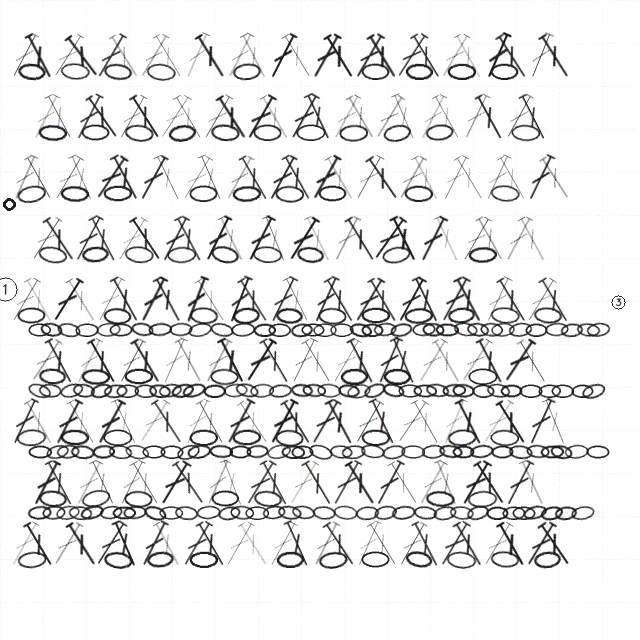chain: (209, 243, 241, 266), (80, 487, 112, 510), (16, 183, 47, 205), (37, 244, 68, 266), (381, 244, 412, 266), (382, 122, 412, 144), (404, 549, 434, 570), (446, 550, 477, 570), (103, 62, 133, 82), (146, 62, 176, 82), (124, 123, 154, 143), (167, 123, 197, 143), (253, 489, 283, 509), (17, 550, 47, 570), (103, 550, 133, 570), (318, 550, 348, 570), (252, 245, 283, 264), (16, 428, 47, 447), (296, 245, 325, 265), (60, 62, 90, 81), (232, 62, 262, 81), (210, 123, 240, 142), (490, 184, 520, 203), (124, 245, 154, 264), (189, 306, 219, 325), (490, 306, 520, 325), (533, 306, 563, 325), (447, 428, 477, 447), (38, 489, 68, 508), (490, 550, 520, 569), (467, 490, 498, 508), (17, 62, 46, 81), (425, 123, 454, 142), (81, 245, 110, 264), (232, 306, 261, 325), (447, 306, 476, 325), (38, 367, 67, 386), (146, 550, 175, 569), (533, 550, 562, 569), (362, 380, 388, 401), (26, 381, 53, 401), (580, 381, 607, 401), (175, 442, 202, 462), (307, 442, 334, 462), (425, 490, 455, 508), (38, 124, 67, 142), (339, 124, 368, 142), (511, 124, 540, 142), (60, 185, 89, 203), (232, 185, 261, 203), (275, 185, 304, 203), (167, 246, 196, 264), (468, 246, 497, 264), (103, 307, 132, 325), (275, 307, 304, 325), (318, 307, 347, 325), (404, 307, 433, 325), (81, 368, 110, 386), (210, 368, 239, 386), (275, 429, 304, 447), (490, 429, 519, 447), (124, 490, 153, 508), (142, 503, 168, 523), (296, 124, 326, 141), (468, 368, 498, 385), (59, 381, 85, 400), (181, 381, 207, 400), (234, 381, 260, 400), (266, 442, 292, 461), (79, 503, 105, 522), (465, 503, 491, 522), (522, 503, 548, 522), (361, 63, 390, 80), (447, 63, 476, 80), (490, 63, 519, 80), (81, 124, 110, 141), (253, 124, 282, 141), (103, 185, 132, 202), (189, 185, 218, 202), (318, 185, 347, 202), (404, 185, 433, 202), (17, 307, 46, 324), (361, 307, 390, 324), (124, 368, 153, 385), (60, 429, 89, 446), (103, 429, 132, 446), (189, 429, 218, 446), (232, 429, 261, 446), (361, 429, 390, 446), (189, 551, 218, 568), (361, 551, 390, 568), (405, 63, 433, 80), (340, 368, 368, 385), (383, 368, 411, 385), (211, 490, 239, 507), (276, 551, 304, 568), (89, 381, 114, 400), (170, 381, 195, 400), (381, 381, 406, 400), (56, 321, 82, 339), (187, 321, 213, 339), (209, 321, 235, 339), (346, 382, 372, 400), (124, 443, 150, 461), (381, 443, 407, 461), (432, 504, 458, 522), (570, 504, 596, 522), (348, 321, 373, 339), (389, 321, 414, 339), (45, 443, 70, 461), (549, 443, 574, 461), (217, 504, 242, 522), (539, 504, 564, 522), (186, 443, 212, 460), (55, 504, 81, 521), (39, 321, 64, 338), (130, 321, 155, 338), (453, 321, 478, 338), (508, 321, 533, 338), (586, 321, 611, 338), (158, 382, 183, 399), (425, 382, 450, 399), (486, 382, 511, 399), (360, 443, 385, 460), (438, 443, 463, 460), (469, 443, 494, 460), (277, 504, 302, 521), (291, 504, 316, 521), (333, 504, 358, 521), (373, 504, 398, 521), (391, 504, 416, 521), (466, 321, 490, 338), (72, 382, 96, 399), (99, 504, 123, 521), (262, 504, 286, 521), (576, 322, 601, 338), (103, 383, 128, 399), (268, 383, 293, 399), (70, 444, 95, 460), (108, 444, 133, 460), (341, 444, 366, 460), (508, 444, 533, 460), (68, 505, 93, 521), (174, 505, 199, 521), (355, 505, 380, 521), (413, 505, 438, 521), (449, 505, 474, 521), (290, 322, 314, 338), (560, 322, 584, 338), (148, 383, 172, 399), (337, 383, 361, 399), (329, 444, 353, 460), (312, 505, 336, 521), (554, 505, 578, 521), (96, 322, 121, 337), (223, 383, 248, 398), (421, 444, 446, 459), (564, 444, 589, 459), (27, 505, 52, 520), (196, 505, 221, 520), (148, 322, 172, 337), (169, 322, 193, 337), (231, 322, 255, 337), (373, 322, 397, 337), (412, 322, 436, 337), (491, 322, 515, 337), (545, 322, 569, 337), (38, 383, 62, 398), (250, 383, 274, 398), (290, 383, 314, 398), (302, 383, 326, 398), (317, 383, 341, 398), (442, 383, 466, 398), (56, 444, 80, 459), (209, 444, 233, 459), (526, 444, 550, 459), (42, 505, 66, 520), (123, 505, 147, 520), (230, 505, 254, 520), (422, 322, 445, 337), (480, 322, 503, 337), (452, 383, 475, 398), (92, 444, 115, 459), (246, 444, 269, 459), (75, 323, 99, 337), (109, 323, 133, 337), (301, 323, 325, 337), (313, 323, 337, 337), (330, 323, 354, 337), (435, 323, 459, 337), (398, 384, 422, 398), (413, 384, 437, 398), (519, 384, 543, 398), (28, 445, 52, 459), (142, 445, 166, 459), (160, 445, 184, 459), (281, 445, 305, 459), (401, 445, 425, 459), (540, 445, 564, 459), (586, 445, 610, 459), (112, 506, 136, 520), (159, 506, 183, 520), (245, 506, 269, 520), (502, 506, 526, 520), (512, 506, 536, 520), (28, 323, 51, 337), (253, 323, 276, 337), (268, 323, 291, 337), (361, 323, 384, 337), (525, 323, 548, 337), (116, 384, 139, 398), (134, 384, 157, 398), (203, 384, 226, 398), (472, 384, 495, 398), (500, 384, 523, 398), (538, 384, 561, 398), (551, 384, 574, 398), (571, 384, 594, 398), (229, 445, 252, 459), (291, 445, 314, 459), (452, 445, 475, 459), (491, 445, 514, 459), (486, 506, 509, 520)
double: (362, 153, 403, 203), (39, 214, 80, 264), (233, 397, 274, 447), (319, 519, 360, 569), (534, 519, 575, 569), (61, 32, 103, 80), (82, 92, 123, 141), (369, 214, 410, 263), (492, 31, 532, 81), (155, 92, 195, 142), (212, 92, 252, 142), (177, 153, 217, 203), (535, 153, 575, 203), (191, 275, 231, 325), (91, 153, 131, 202), (26, 214, 66, 263), (126, 214, 166, 263), (26, 336, 66, 385), (456, 336, 496, 385), (499, 336, 539, 385), (134, 397, 174, 446), (392, 397, 432, 446), (478, 397, 518, 446), (169, 458, 209, 507), (470, 458, 510, 507), (105, 31, 144, 81), (191, 31, 230, 81), (320, 31, 359, 81), (363, 31, 402, 81), (535, 31, 574, 81), (169, 92, 208, 142), (198, 92, 237, 142), (241, 92, 280, 142), (370, 92, 409, 142), (112, 214, 151, 264), (284, 214, 323, 264), (341, 214, 380, 264), (48, 275, 87, 325), (62, 275, 101, 325), (234, 275, 273, 325), (320, 275, 359, 325), (521, 275, 560, 325), (535, 275, 574, 325), (298, 336, 337, 386), (327, 336, 366, 386), (413, 336, 452, 386), (513, 336, 552, 386), (62, 397, 101, 447), (277, 397, 316, 447), (306, 397, 345, 447), (349, 397, 388, 447), (492, 397, 531, 447), (126, 458, 165, 508), (155, 458, 194, 508), (241, 458, 280, 508), (284, 458, 323, 508), (298, 458, 337, 508), (341, 458, 380, 508), (384, 458, 423, 508), (456, 458, 495, 508), (48, 519, 87, 569), (62, 519, 101, 569), (220, 519, 259, 569), (234, 519, 273, 569), (363, 519, 402, 569), (435, 519, 474, 569), (449, 519, 488, 569), (478, 519, 517, 569), (521, 519, 560, 569), (285, 91, 323, 142), (500, 91, 538, 142), (20, 152, 58, 203), (106, 152, 144, 203), (278, 152, 316, 203), (307, 152, 345, 203), (350, 152, 388, 203), (471, 213, 509, 264), (106, 274, 144, 325), (149, 274, 187, 325), (436, 274, 474, 325), (170, 335, 208, 386), (221, 396, 259, 447), (264, 396, 302, 447), (48, 31, 87, 80), (392, 31, 431, 80), (126, 92, 165, 141), (241, 336, 280, 385), (148, 397, 187, 446), (91, 519, 130, 568), (92, 31, 130, 81), (135, 31, 173, 81), (149, 31, 187, 81), (278, 31, 316, 81), (307, 31, 345, 81), (350, 31, 388, 81), (407, 31, 445, 81), (436, 31, 474, 81), (113, 92, 151, 142), (256, 92, 294, 142), (342, 92, 380, 142), (49, 153, 87, 203), (235, 153, 273, 203), (321, 153, 359, 203), (393, 153, 431, 203), (450, 153, 488, 203), (493, 153, 531, 203), (457, 214, 495, 264), (6, 275, 44, 325), (20, 275, 58, 325), (350, 275, 388, 325), (364, 275, 402, 325), (493, 275, 531, 325), (127, 336, 165, 386), (256, 336, 294, 386), (428, 336, 466, 386), (20, 397, 58, 447), (20, 519, 58, 569), (178, 519, 216, 569), (192, 519, 230, 569), (393, 519, 431, 569), (6, 30, 43, 81), (41, 91, 78, 142), (70, 213, 107, 264), (242, 213, 279, 264), (328, 213, 365, 264), (92, 274, 129, 325), (135, 274, 172, 325), (450, 274, 487, 325), (213, 335, 250, 386), (450, 31, 487, 81), (328, 92, 365, 142), (428, 92, 465, 142), (471, 92, 508, 142), (135, 153, 172, 203), (221, 153, 258, 203), (264, 153, 301, 203), (500, 214, 537, 264), (514, 214, 551, 264), (393, 275, 430, 325), (41, 336, 78, 386), (84, 336, 121, 386), (113, 336, 150, 386), (92, 397, 129, 447), (192, 397, 229, 447), (321, 397, 358, 447), (407, 397, 444, 447), (41, 458, 78, 508), (256, 458, 293, 508), (328, 458, 365, 508), (371, 458, 408, 508), (414, 458, 451, 508), (6, 519, 43, 569), (149, 519, 186, 569), (264, 519, 301, 569), (493, 519, 530, 569), (222, 30, 258, 81), (300, 91, 336, 142), (458, 91, 494, 142), (200, 213, 236, 264), (300, 213, 336, 264), (386, 213, 422, 264), (265, 274, 301, 325), (408, 274, 444, 325), (480, 274, 516, 325), (523, 396, 559, 447), (136, 518, 172, 569), (21, 31, 57, 81), (236, 31, 272, 81), (265, 31, 301, 81), (28, 92, 64, 142), (71, 92, 107, 142), (415, 92, 451, 142), (515, 92, 551, 142), (408, 153, 444, 203), (437, 153, 473, 203), (85, 214, 121, 264), (157, 214, 193, 264), (171, 214, 207, 264), (415, 214, 451, 264), (71, 336, 107, 386), (200, 336, 236, 386), (343, 336, 379, 386), (472, 336, 508, 386), (50, 397, 86, 447), (451, 397, 487, 447), (28, 458, 64, 508), (71, 458, 107, 508), (501, 458, 537, 508), (308, 519, 344, 569), (408, 519, 444, 569), (64, 152, 99, 203), (150, 152, 185, 203), (480, 152, 515, 203), (523, 152, 558, 203), (214, 213, 249, 264), (279, 274, 314, 325), (157, 335, 192, 386), (286, 335, 321, 386), (372, 335, 407, 386), (386, 335, 421, 386), (7, 396, 42, 447), (107, 396, 142, 447), (365, 396, 400, 447), (85, 457, 120, 508), (114, 457, 149, 508), (515, 457, 550, 508), (351, 518, 386, 569), (180, 30, 214, 81), (481, 30, 515, 81), (524, 30, 558, 81), (387, 91, 421, 142), (8, 152, 42, 203), (430, 213, 464, 264), (309, 274, 343, 325), (180, 396, 214, 447), (538, 396, 572, 447), (201, 457, 235, 508), (108, 518, 142, 569), (280, 518, 314, 569), (194, 152, 227, 203), (258, 213, 291, 264), (180, 274, 213, 325), (438, 396, 471, 447), (430, 457, 463, 508), (224, 274, 256, 325), (216, 457, 248, 508)
noise: (0, 275, 19, 303), (609, 293, 627, 311), (2, 197, 17, 212)
